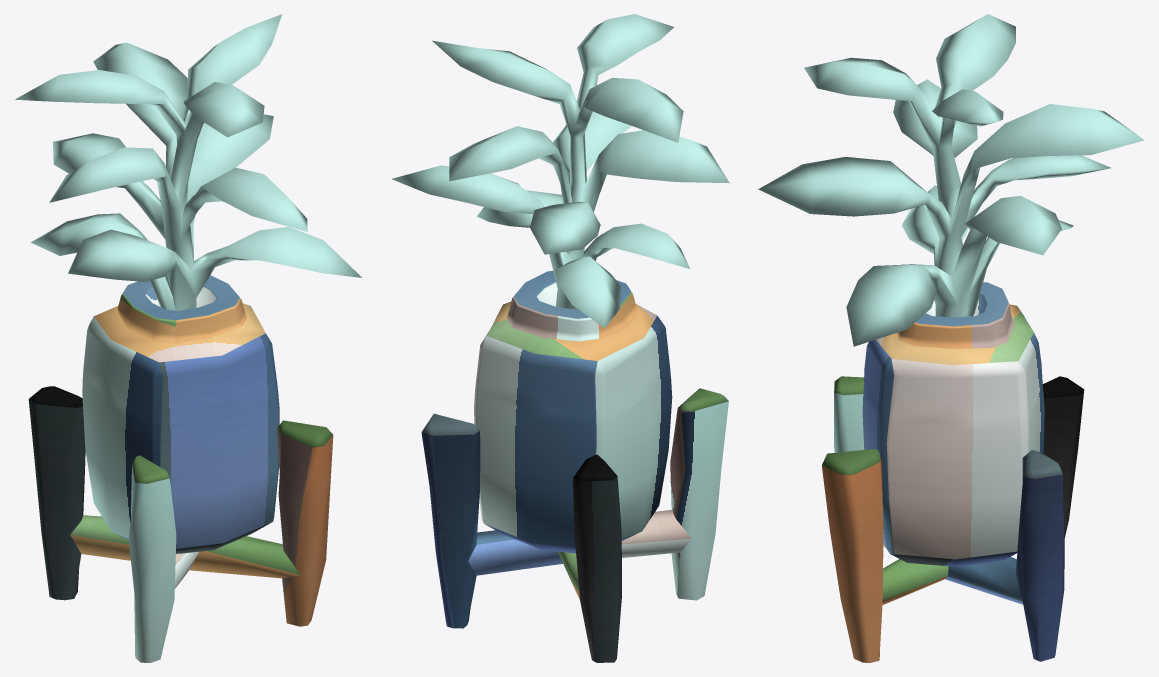
File: P_StonePlantStand.glb
The picture shows the model from 3 angles, left to right: view 1: azimuth 30°, elevation 25°; view 2: azimuth 150°, elevation 25°; view 3: azimuth 270°, elevation 25°; orthographic projection.
Visible parts, largest first — view 1: P_StonePlantStand; view 2: P_StonePlantStand; view 3: P_StonePlantStand.
Boxes of the visible parts, box(x1,y1,x2,y2) form: P_StonePlantStand: box(15, 14, 361, 662); P_StonePlantStand: box(391, 14, 729, 662); P_StonePlantStand: box(758, 14, 1144, 662).
Bounding box in the file's own units: 0.6963 × 1.31 × 0.8188.
Materials: 1 (1 with a texture image).
